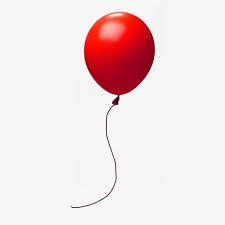red: (82, 11, 155, 100)
